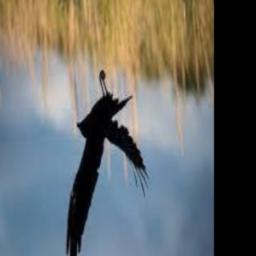Crow: (65, 68, 149, 256)
